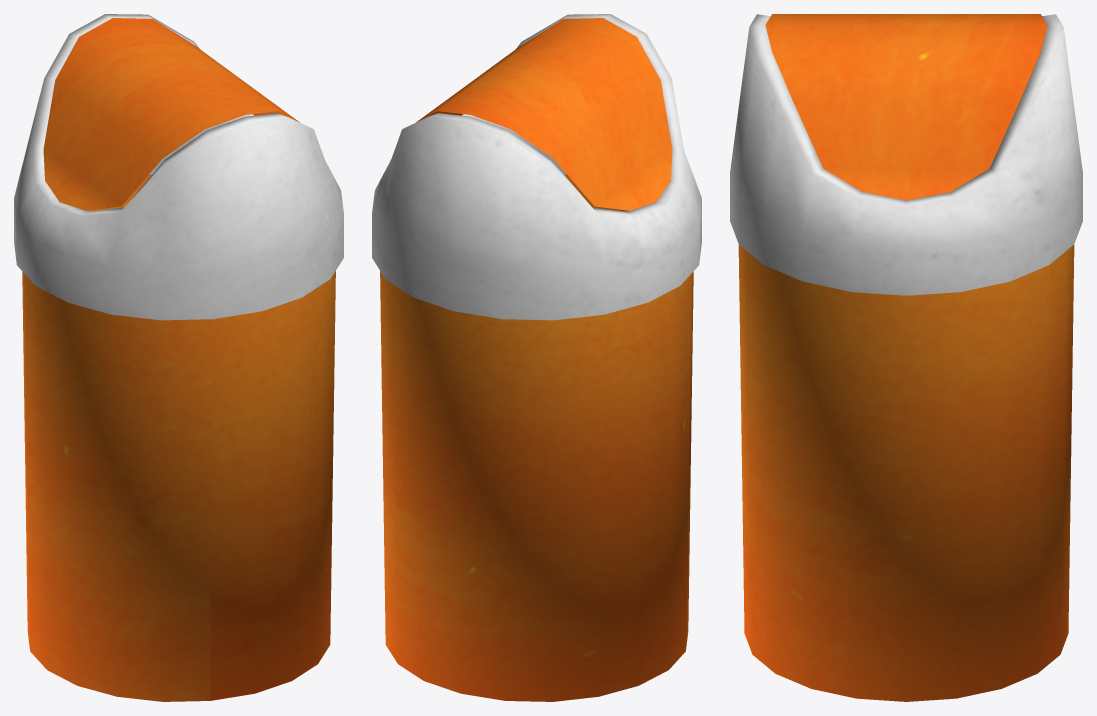
Rendered from trashbin w lid.fbx.
3 renders of one model, left to right at view 1: azimuth 30°, elevation 25°; view 2: azimuth 150°, elevation 25°; view 3: azimuth 270°, elevation 25°, orthographic. The views are drawn at different scales.
Visible parts, largest first — view 1: trashbin_w_lid; view 2: trashbin_w_lid; view 3: trashbin_w_lid.
Part boxes in pixels (<box>): trashbin_w_lid: <box>14,14,343,701</box>; trashbin_w_lid: <box>372,14,701,701</box>; trashbin_w_lid: <box>730,14,1082,701</box>.
Size of the model in its own units: 38.39 by 73.03 by 38.39.
